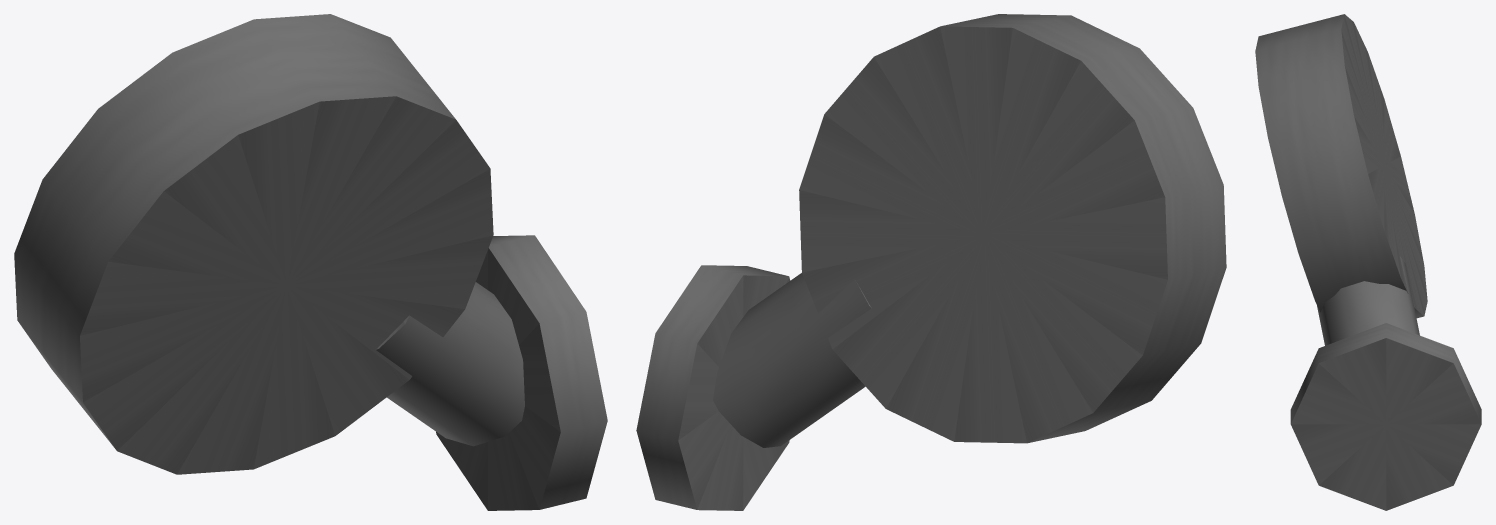
Rendered from mastarmcurve_8x2_c4_east.obj.
3 renders of one model, left to right at view 1: azimuth 30°, elevation 25°; view 2: azimuth 150°, elevation 25°; view 3: azimuth 270°, elevation 25°, orthographic. The views are drawn at different scales.
Visible parts, largest first — view 1: mastarm_8x2_c4_east; view 2: mastarm_8x2_c4_east; view 3: mastarm_8x2_c4_east.
Part boxes in pixels (left/top/right/bottom): mastarm_8x2_c4_east: left=14, top=14, right=607, bottom=510; mastarm_8x2_c4_east: left=636, top=14, right=1226, bottom=510; mastarm_8x2_c4_east: left=1255, top=14, right=1481, bottom=510.
Size of the model in its own units: 0.8272 by 0.8815 by 0.4743.
